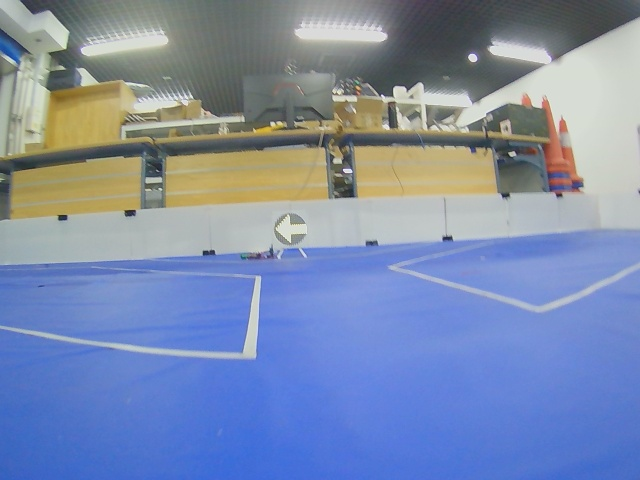left_yellow: (274, 213, 308, 245)
